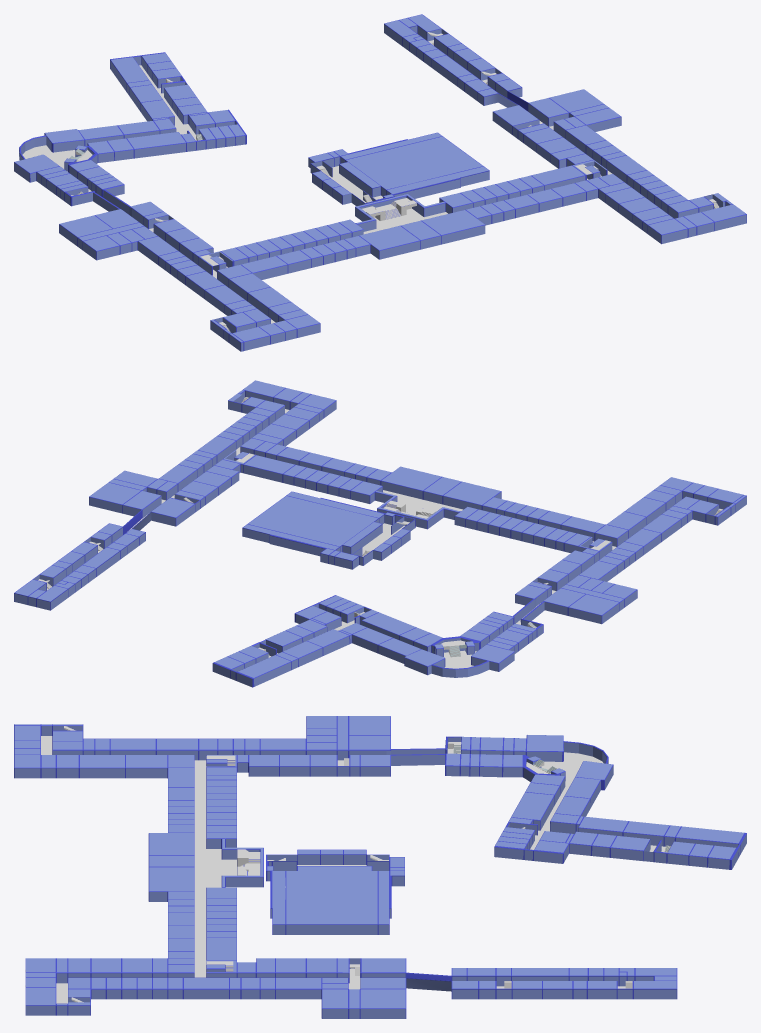
The model's file is dstu_2.glb.
3 renders of one model, top to bottom at view 1: azimuth 30°, elevation 25°; view 2: azimuth 150°, elevation 25°; view 3: azimuth 270°, elevation 25°, orthographic. The views are drawn at different scales.
Visible parts, largest first — view 1: 1-8.2, K2, 2, Lcentr; view 2: 1-8.2, K2, 2; view 3: 1-8.2, K2, 2, Lcentr.
Boxes of the visible parts, x1=… form: 1-8.2: x1=14, y1=52, x2=746, y2=351; K2: x1=308, y1=132, x2=489, y2=206; 2: x1=384, y1=14, x2=528, y2=111; Lcentr: x1=362, y1=198, x2=416, y2=220; 1-8.2: x1=89, y1=380, x2=746, y2=687; K2: x1=242, y1=491, x2=415, y2=569; 2: x1=14, y1=510, x2=151, y2=610; 1-8.2: x1=14, y1=716, x2=746, y2=1018; K2: x1=266, y1=849, x2=404, y2=934; 2: x1=406, y1=968, x2=677, y2=999; Lcentr: x1=237, y1=849, x2=260, y2=875.
Size of the model in its own units: 180 by 3.99 by 191.
